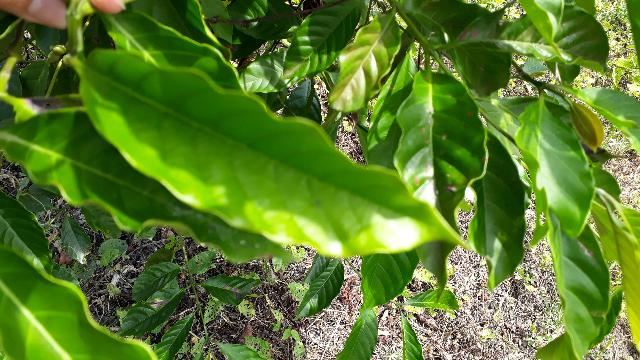healthy: (164, 104, 576, 316)
